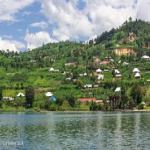Lake: (2, 107, 147, 150)
